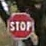stop: (6, 10, 34, 40)
